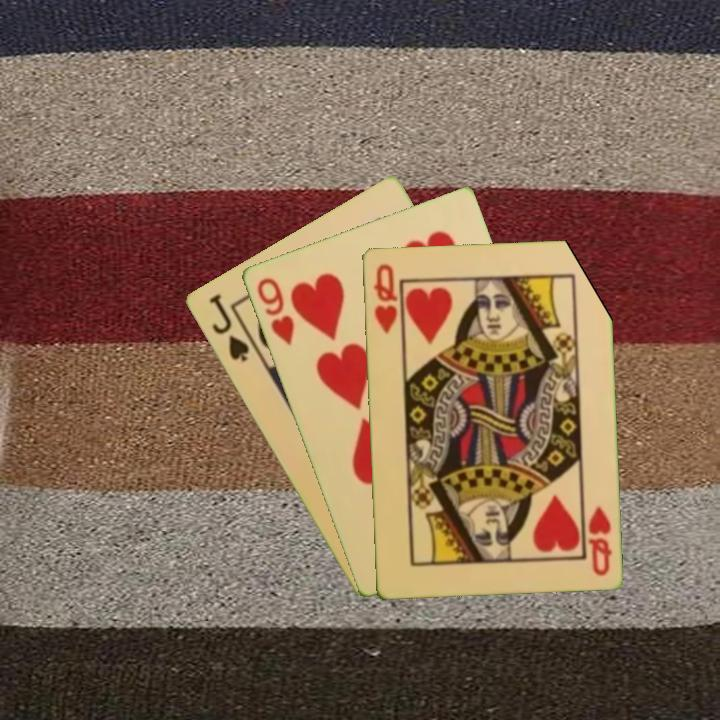9h: (253, 273, 297, 348)
Js: (205, 290, 252, 365)
Qh: (369, 260, 400, 336), (584, 501, 614, 578)
